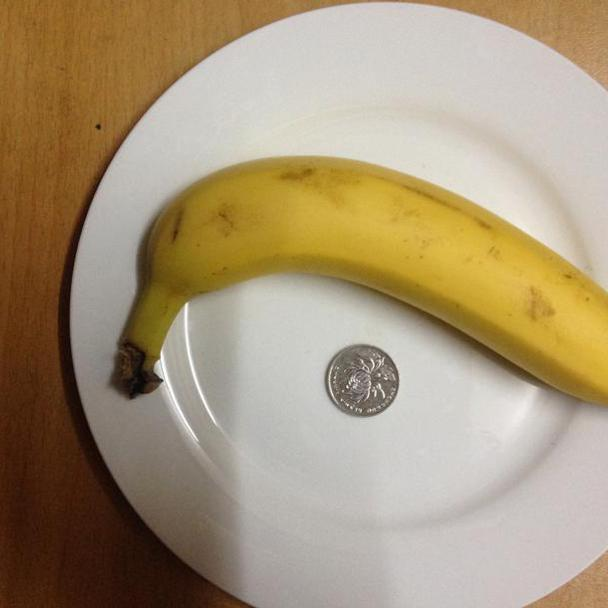banana: (119, 158, 608, 406)
